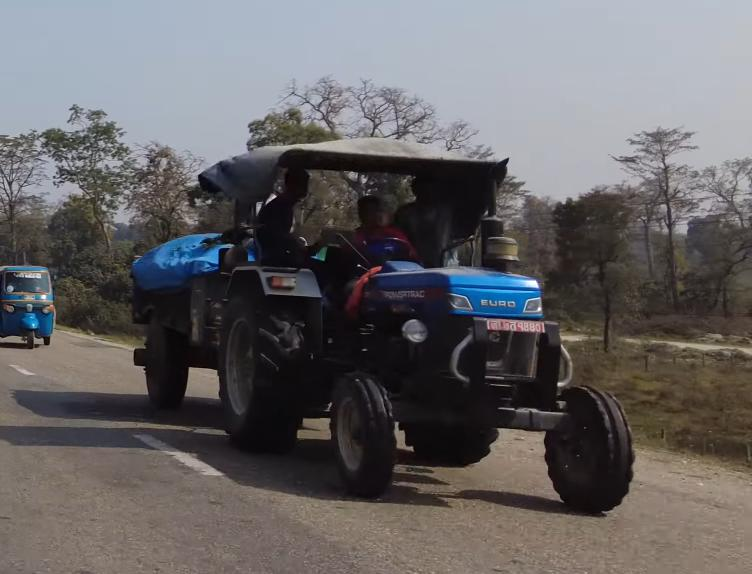auto_rickshaw: (0, 259, 61, 353)
tractor: (127, 133, 643, 513)
